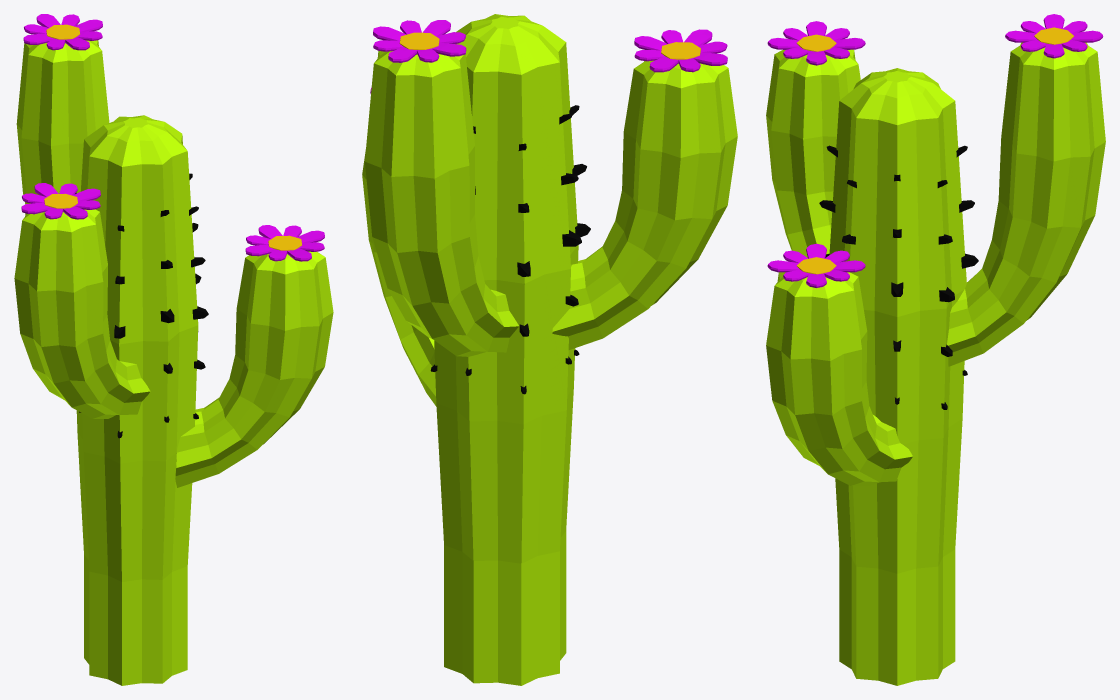
Rendered from Cardon02_03Brazos_Flor_Magenta.fbx.
3 renders of one model, left to right at view 1: azimuth 30°, elevation 25°; view 2: azimuth 150°, elevation 25°; view 3: azimuth 270°, elevation 25°, orthographic. The views are drawn at different scales.
Parts seen in each view (by area): view 1: Cactus, Flor_Magenta, Espinas; view 2: Cactus, Flor_Magenta, Espinas; view 3: Cactus, Flor_Magenta, Espinas.
Boxes of the visible parts, <box> form: Cactus: <box>14,40,333,685</box>; Flor_Magenta: <box>21,14,324,261</box>; Espinas: <box>75,173,208,438</box>; Cactus: <box>362,14,737,685</box>; Flor_Magenta: <box>370,20,727,93</box>; Espinas: <box>430,105,590,394</box>; Cactus: <box>766,42,1105,685</box>; Flor_Magenta: <box>767,14,1103,287</box>; Espinas: <box>819,145,978,409</box>.
Size of the model in its own units: 124 by 226 by 111.
